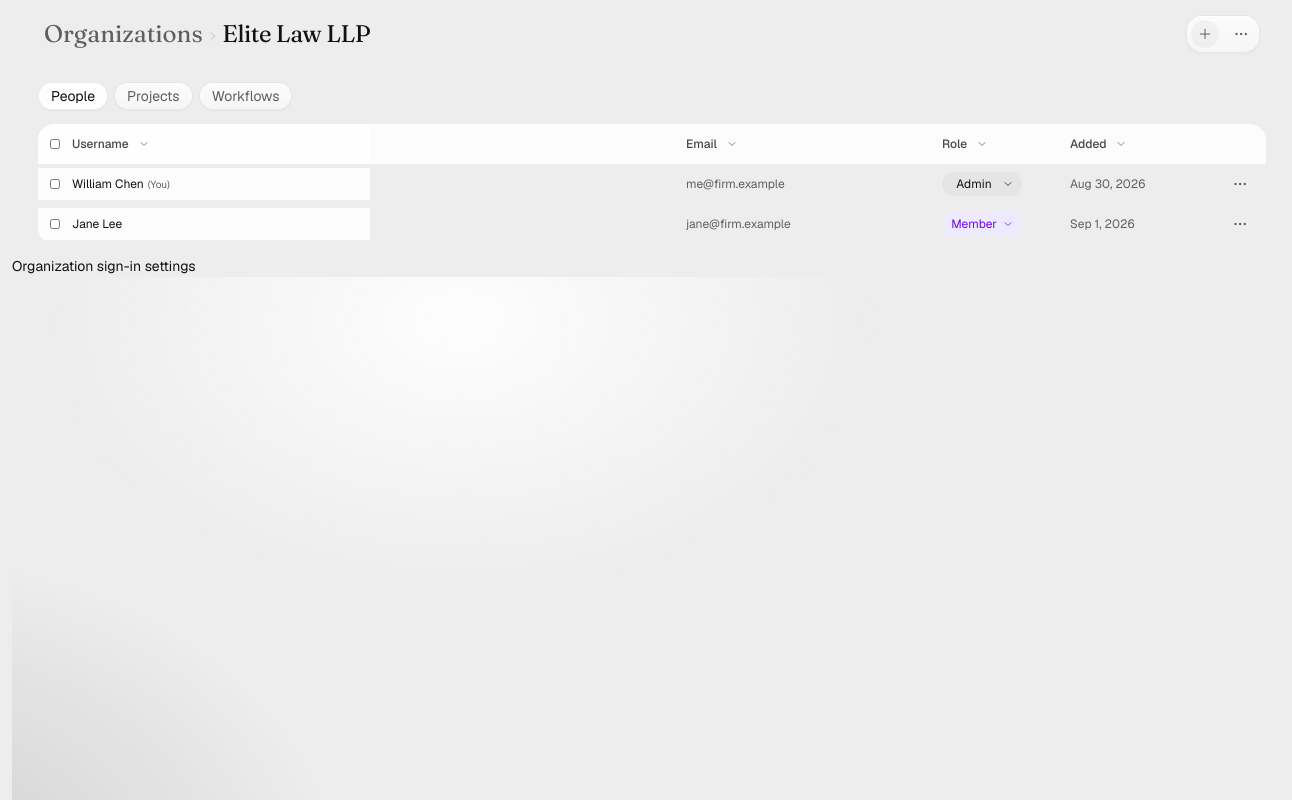
Test case: OrganizationWorkspace › matches the toolbar and right-click people menu for William Chen
Check: the text "Jane Lee" is shown, box [72,216,122,232]
Click the checkbox named "Select William Chen" at coordinates (55, 184), box [50,179,60,189]
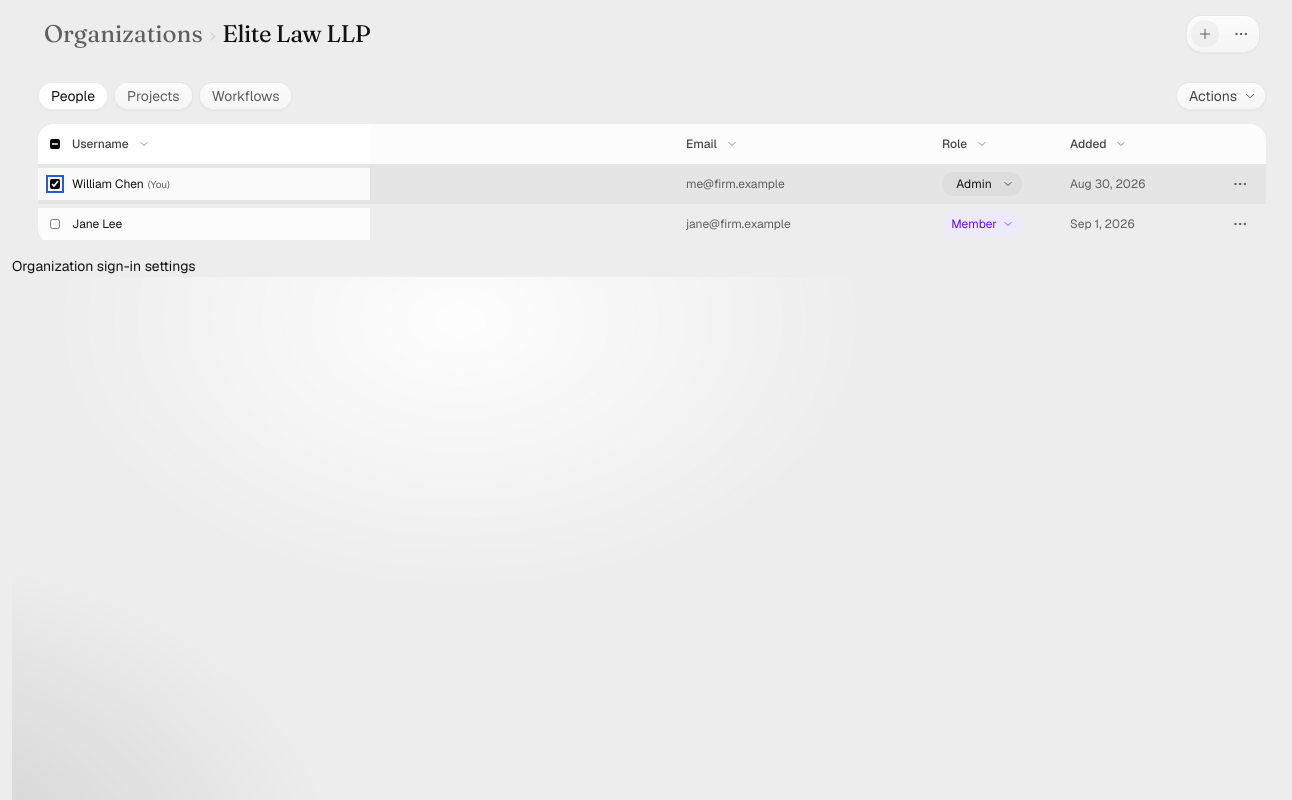
Click the button "Actions" at coordinates (1221, 96), box [1176,82,1266,110]
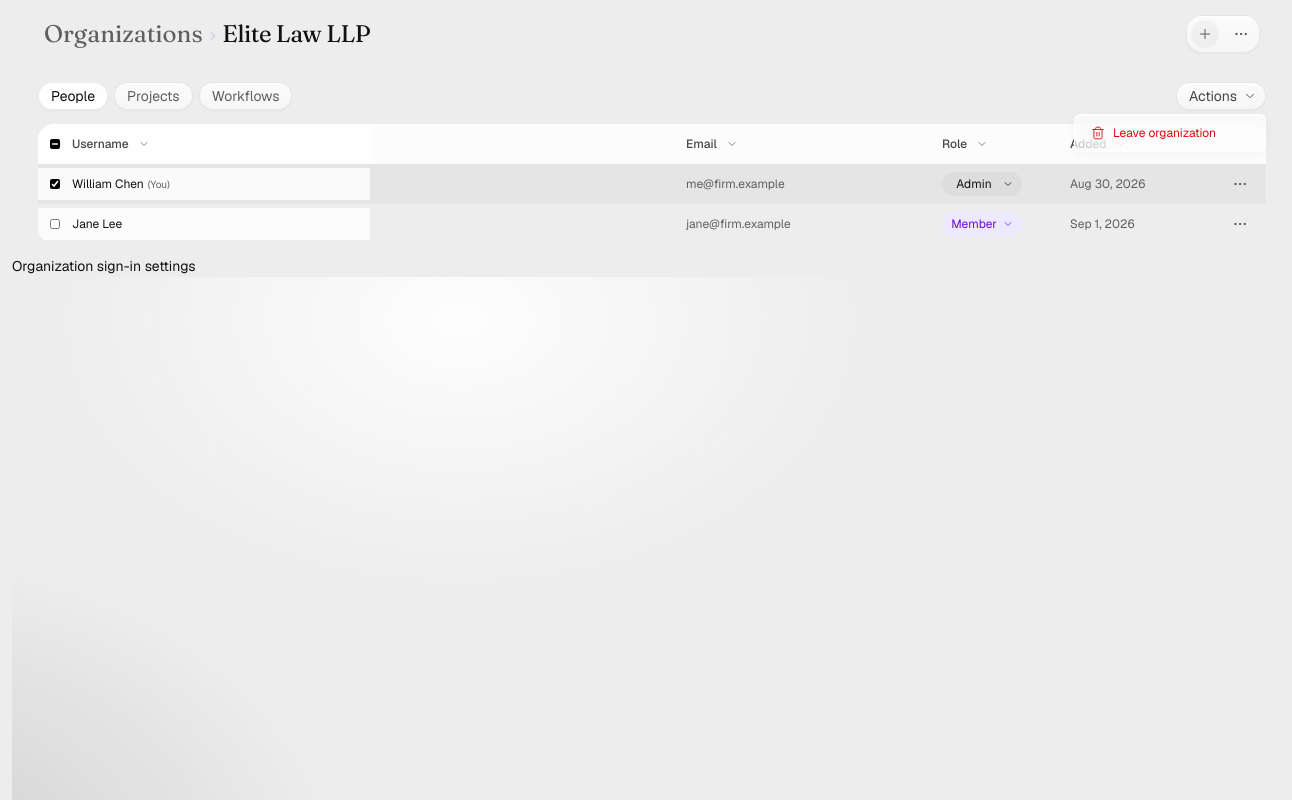
Check: the menu items read "Leave organization", in this order, box [1091,125,1216,141]
Press Escape
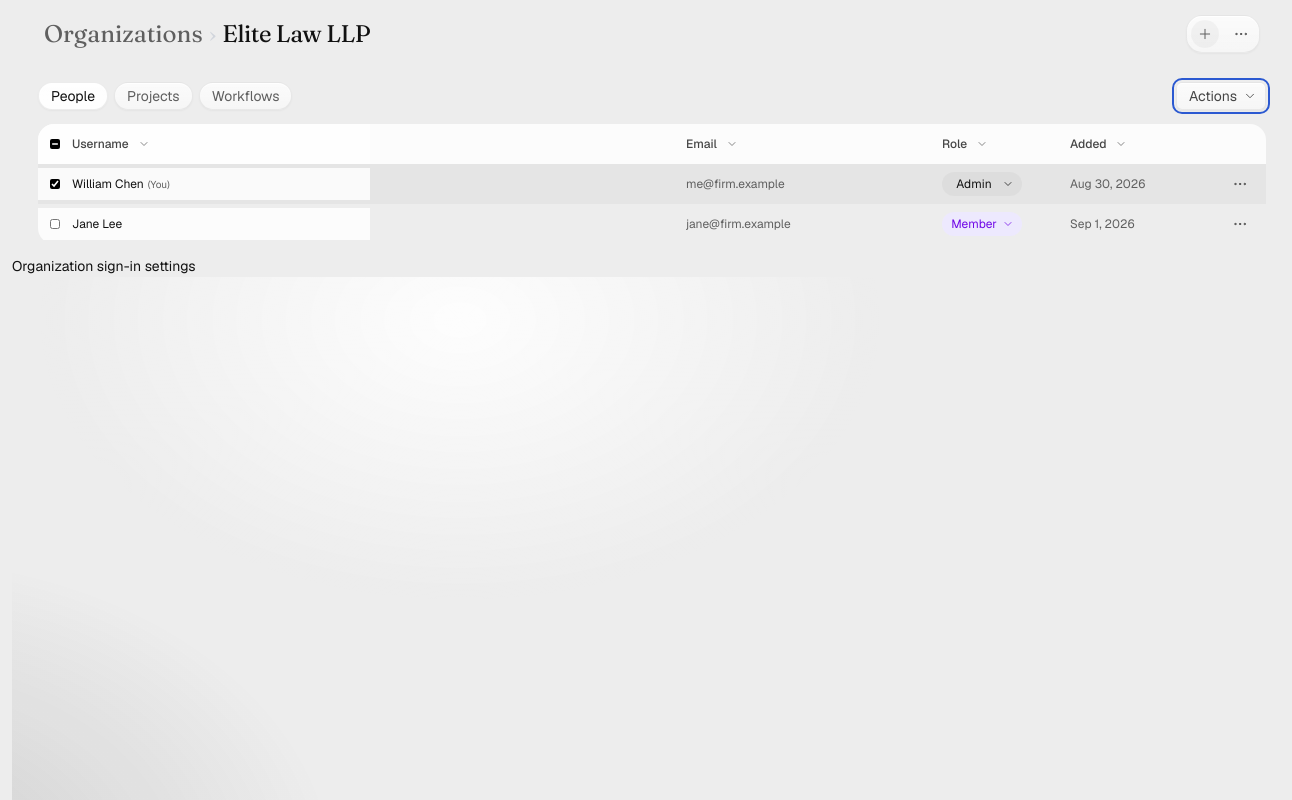
Right-click the text "William Chen" at coordinates (108, 184), box [72,176,144,192]
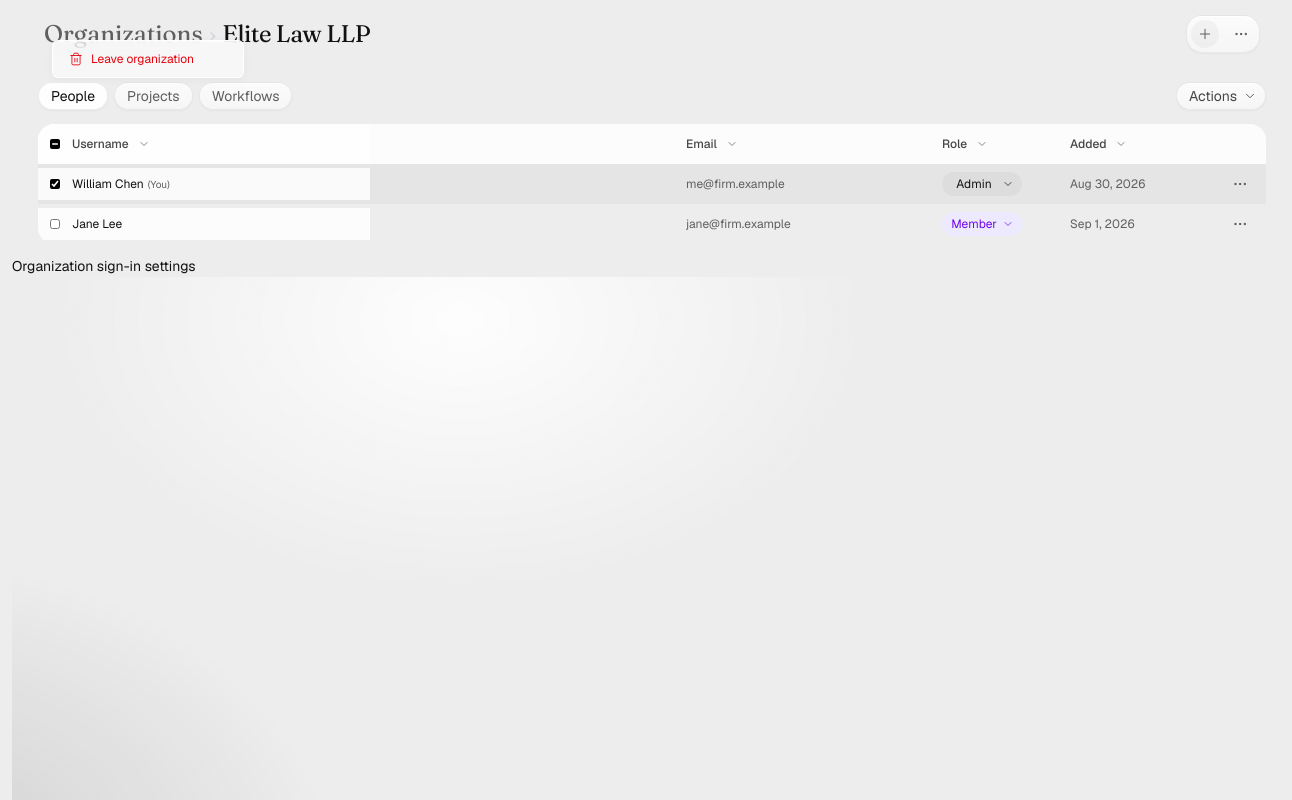
Check: the menu items read "Leave organization", in this order, box [69,51,194,67]
